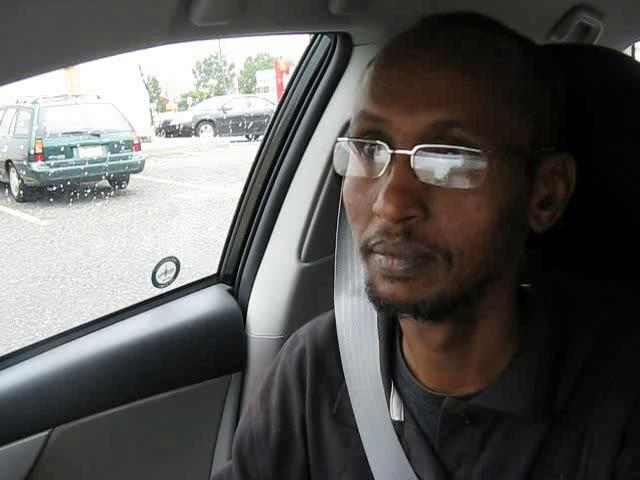no_yawn: (352, 217, 457, 285)
open_eyeL: (338, 127, 403, 181)
open_eyeR: (409, 138, 496, 193)
